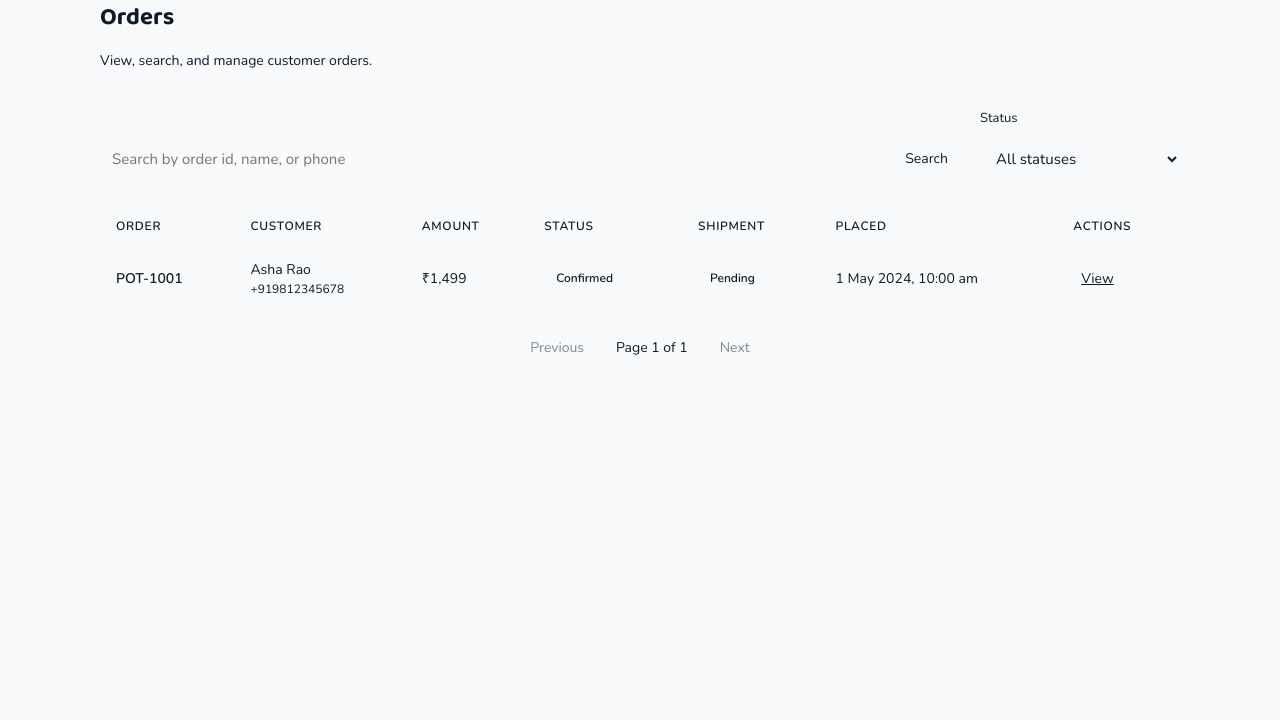
Test case: Admin OrdersPage (Req 17) › surfaces the server's manual-Shiprocket warning after a cancellation
expect the text "POT-1001" is shown: met, box [116, 268, 183, 288]
Click the button "View" at (1098, 278), box [1073, 264, 1122, 292]
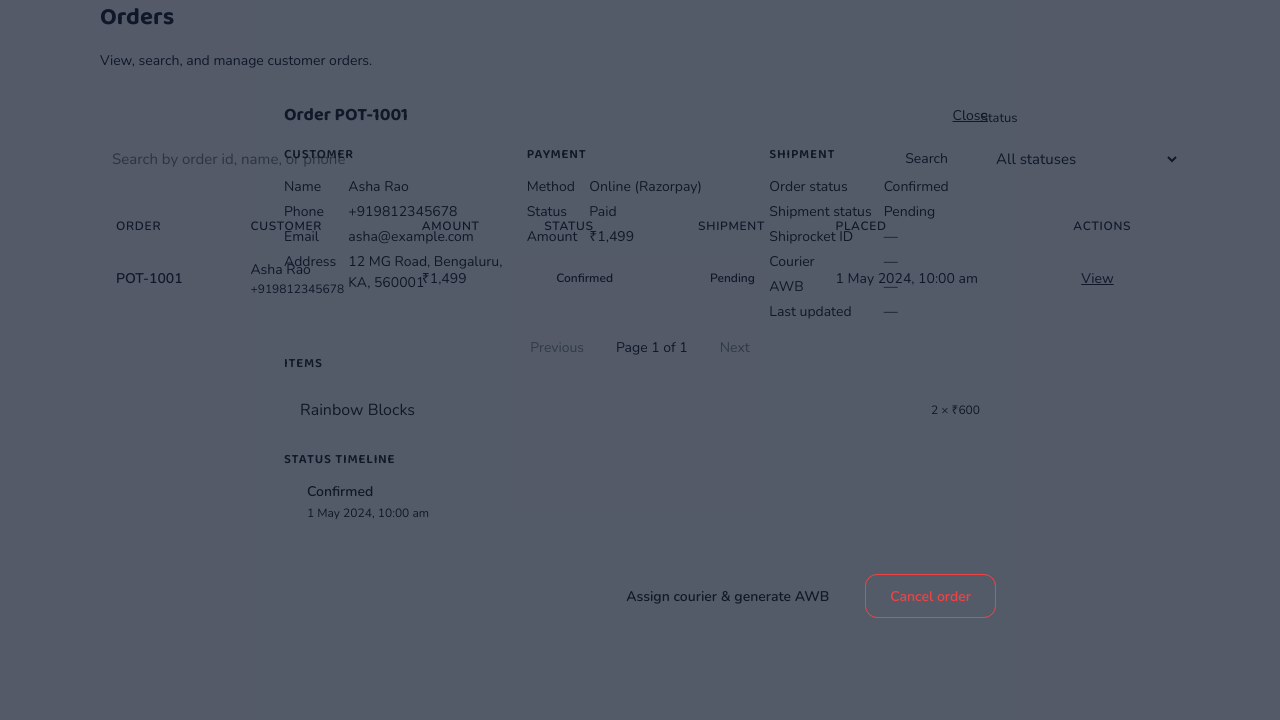
expect the dialog is shown: met
Click the button "Cancel order" at (931, 596), box [865, 574, 996, 618]
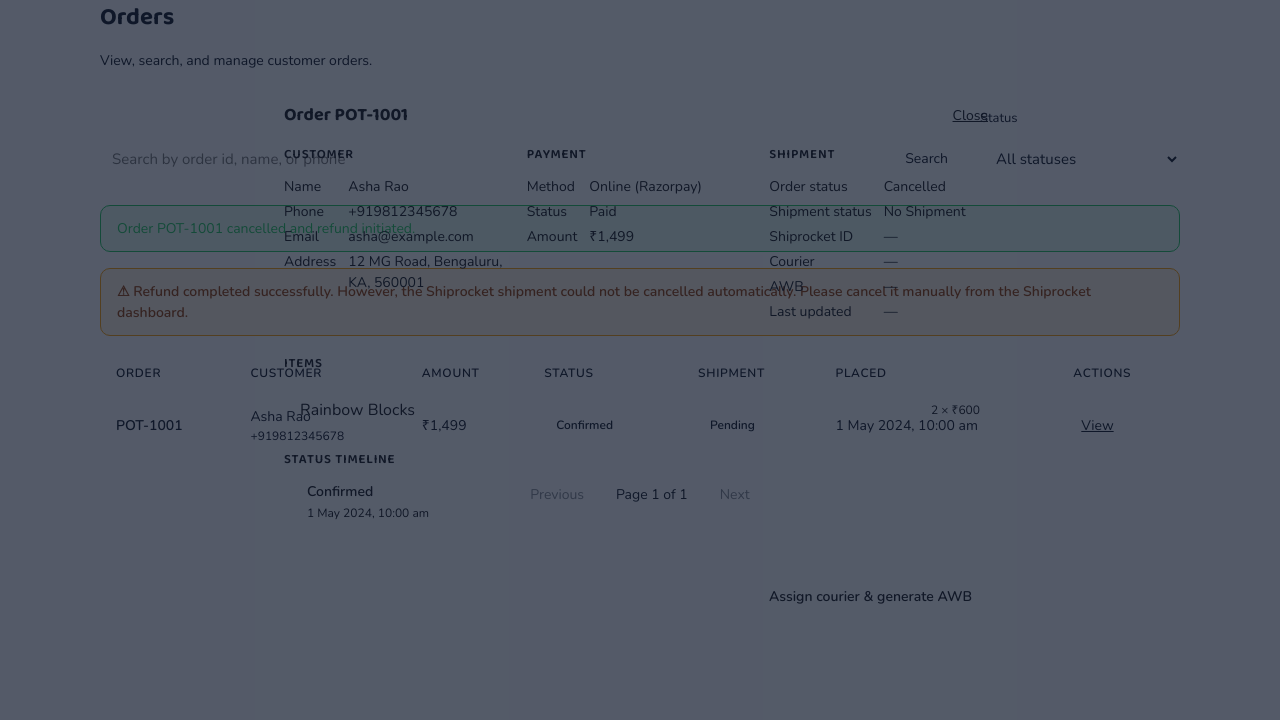
expect the message with test id "cancel-warning" shows "cancel it manually from the shiprocket dashboard": met, box [117, 282, 1091, 322]
